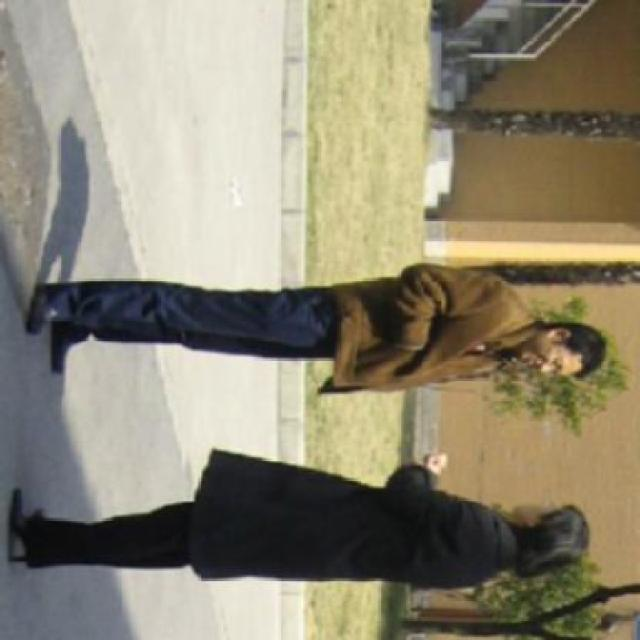Person: (4, 448, 594, 598), (17, 266, 606, 402)
